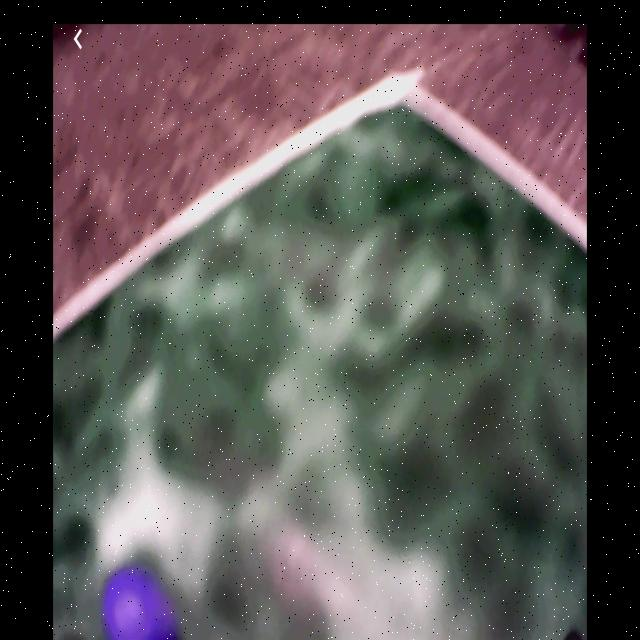ball: (101, 569, 174, 640)
